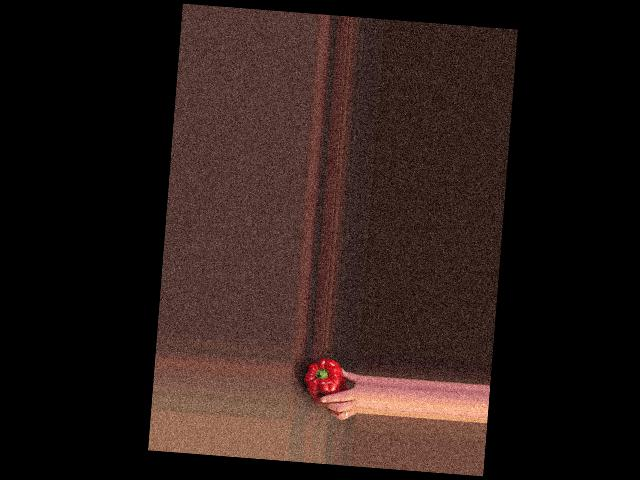bell_pepper: (301, 355, 346, 402)
